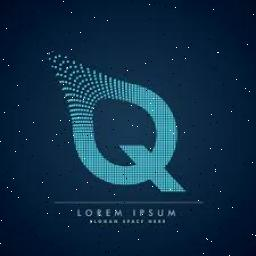q: (70, 89, 194, 205)
